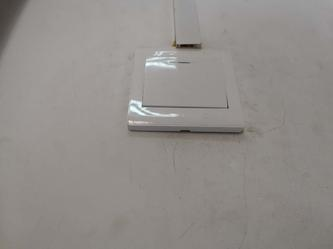switch: (140, 50, 233, 115)
